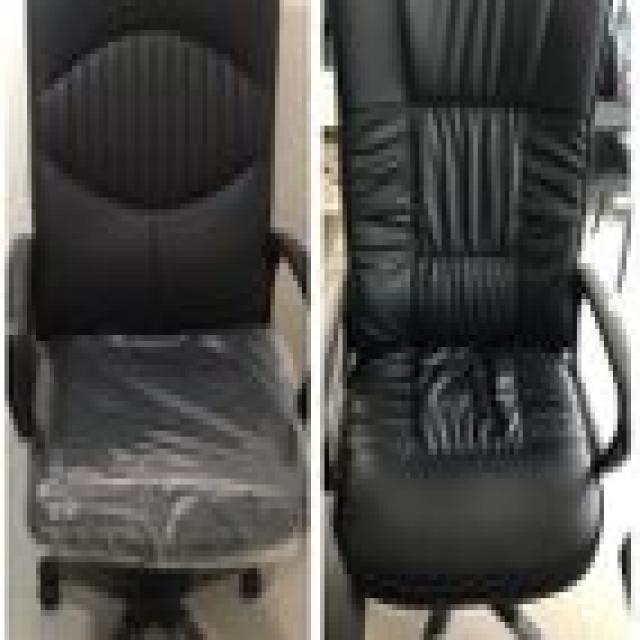others: (4, 6, 631, 640)
